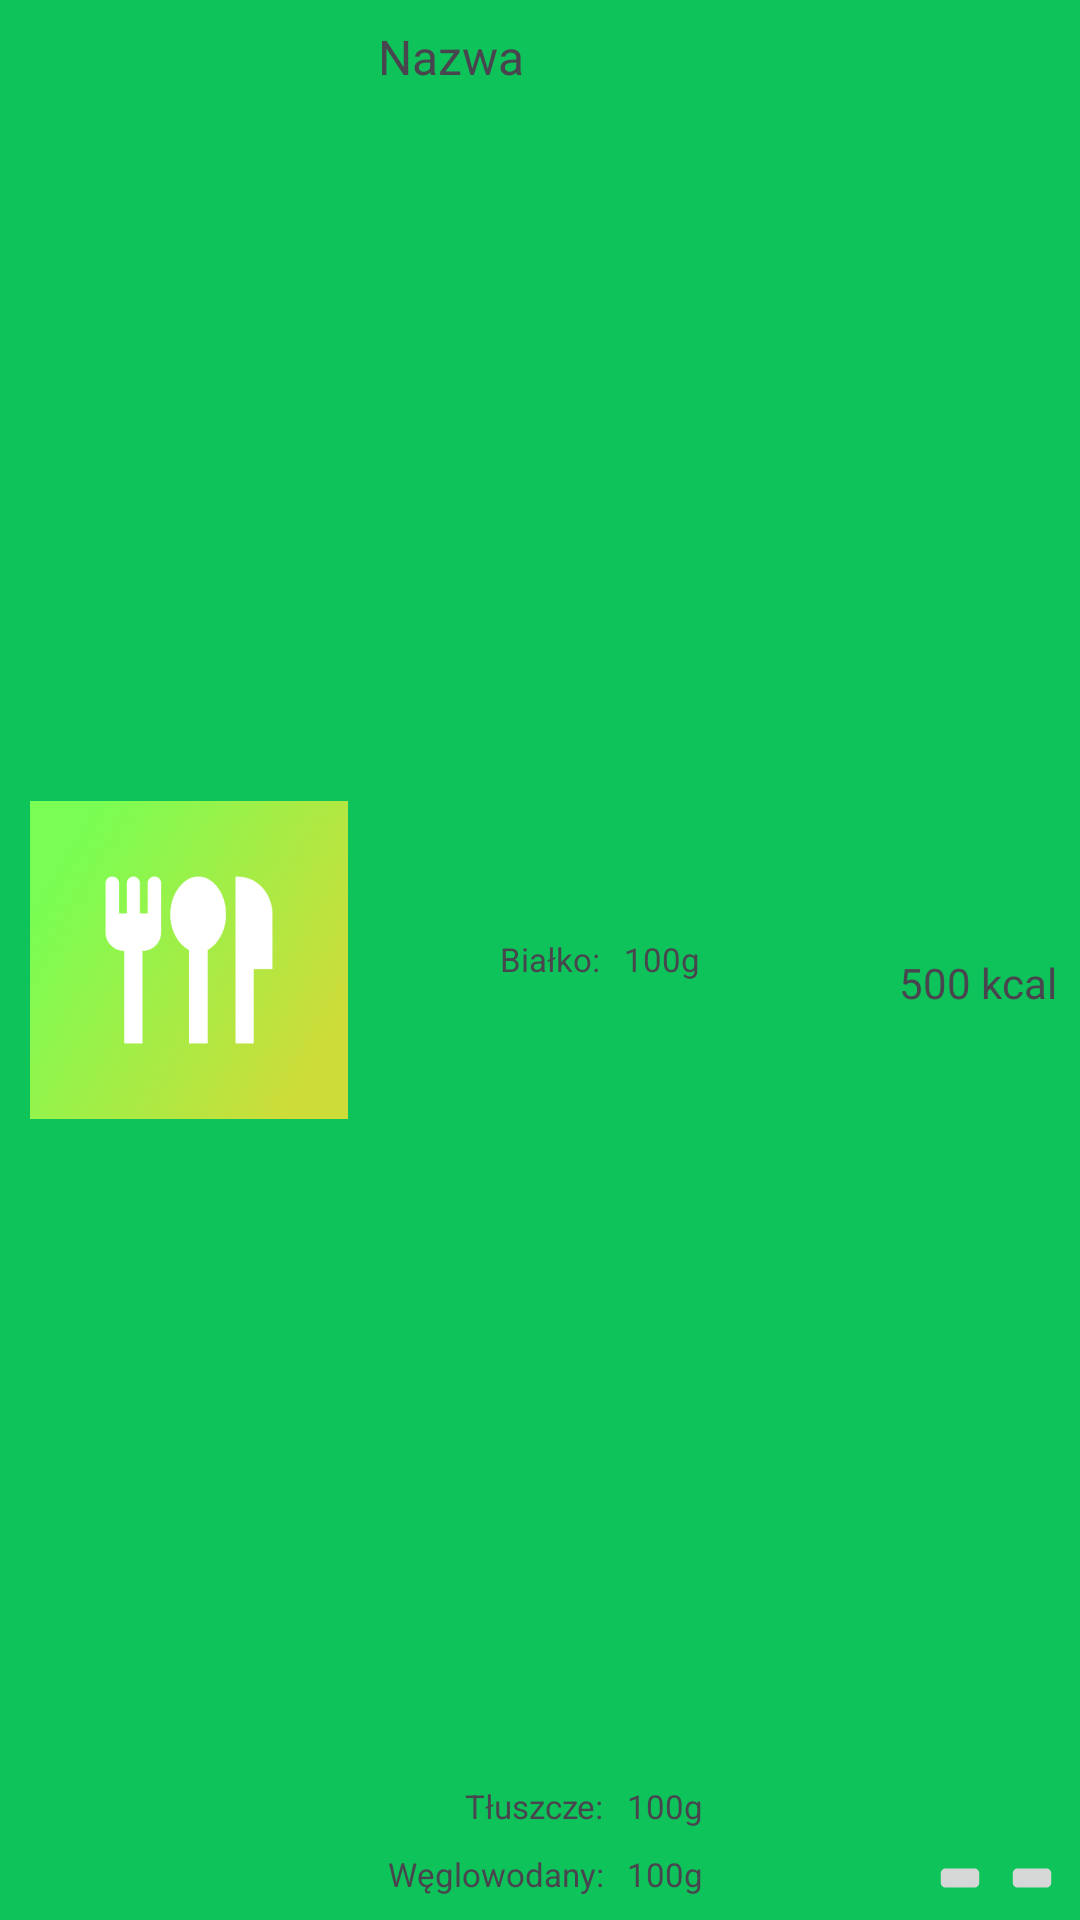

Screen size 1080×1920. Icon name, then its center in pixels as [x,y]:
sztucce: [189,960]
